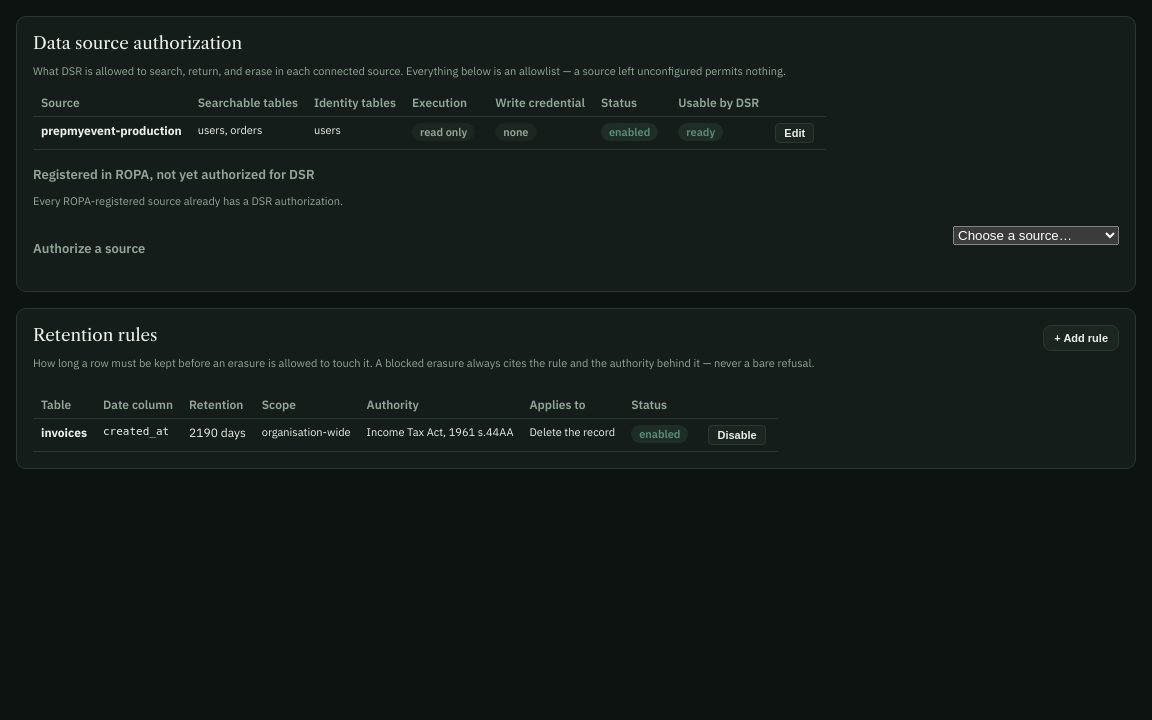
Test: DsrConfig: admin edits › editing a source authorization saves through the real PUT endpoint
Expected: the cell "prepmyevent-production" is shown, x1=33 y1=116 x2=190 y2=150
Click the button "Edit" at (795, 133), box x1=775 y1=123 x2=814 y2=143
(page scrolled)
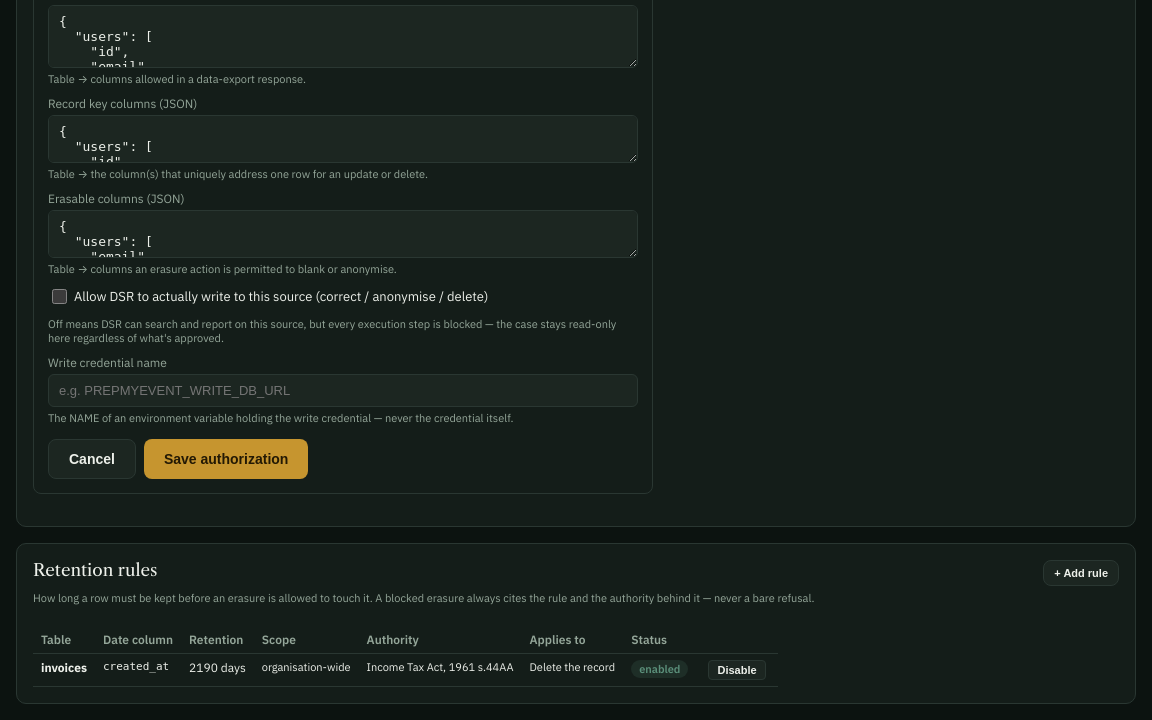
Click the button "Save authorization" at (226, 459), box x1=144 y1=439 x2=308 y2=479
(page scrolled)
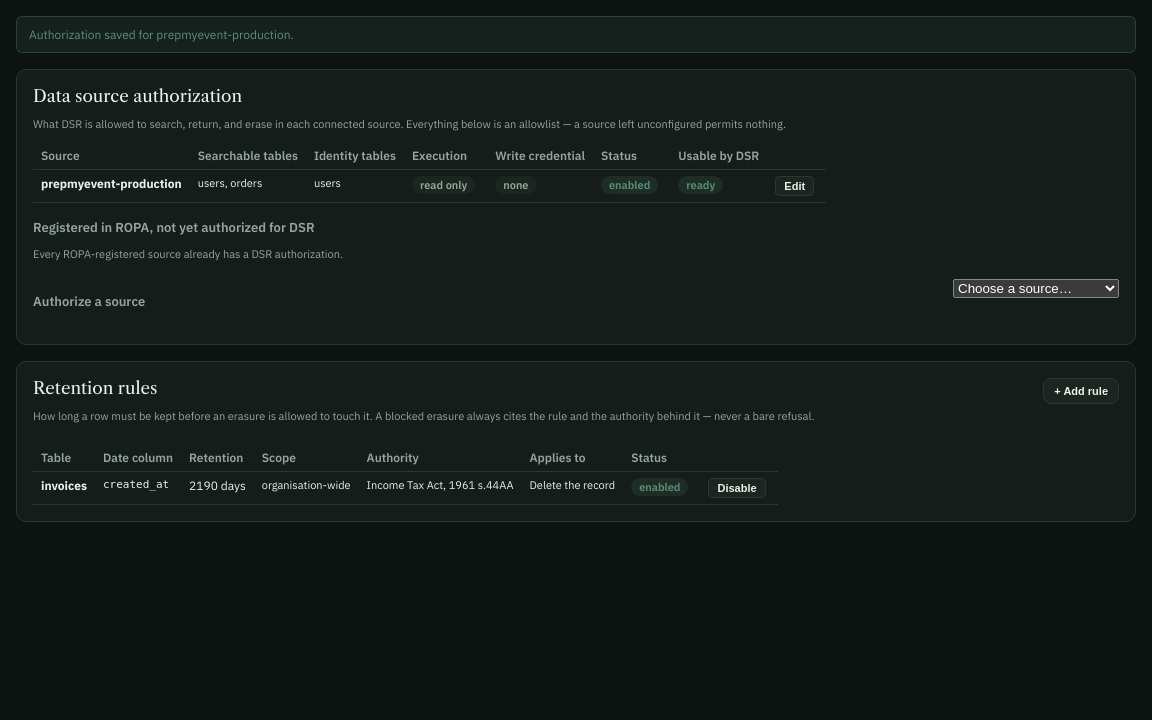
Expected: the text "Authorization saved for prepmyevent-production." is shown, x1=16 y1=16 x2=1136 y2=53
